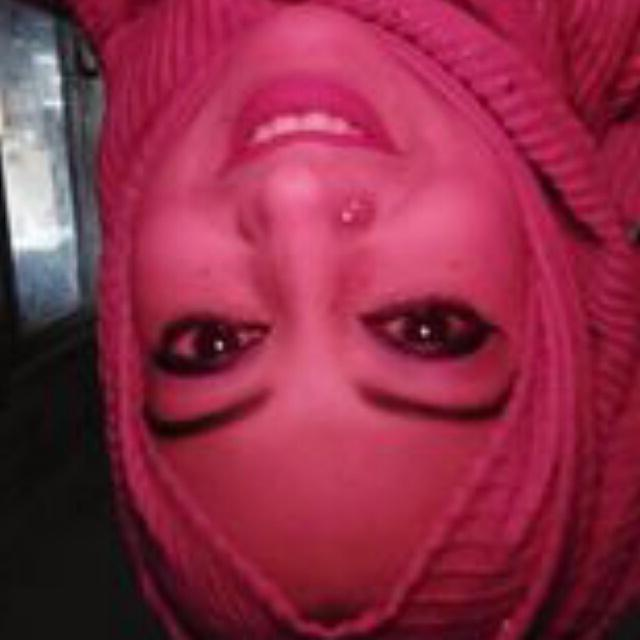Happy: (110, 46, 522, 499)
